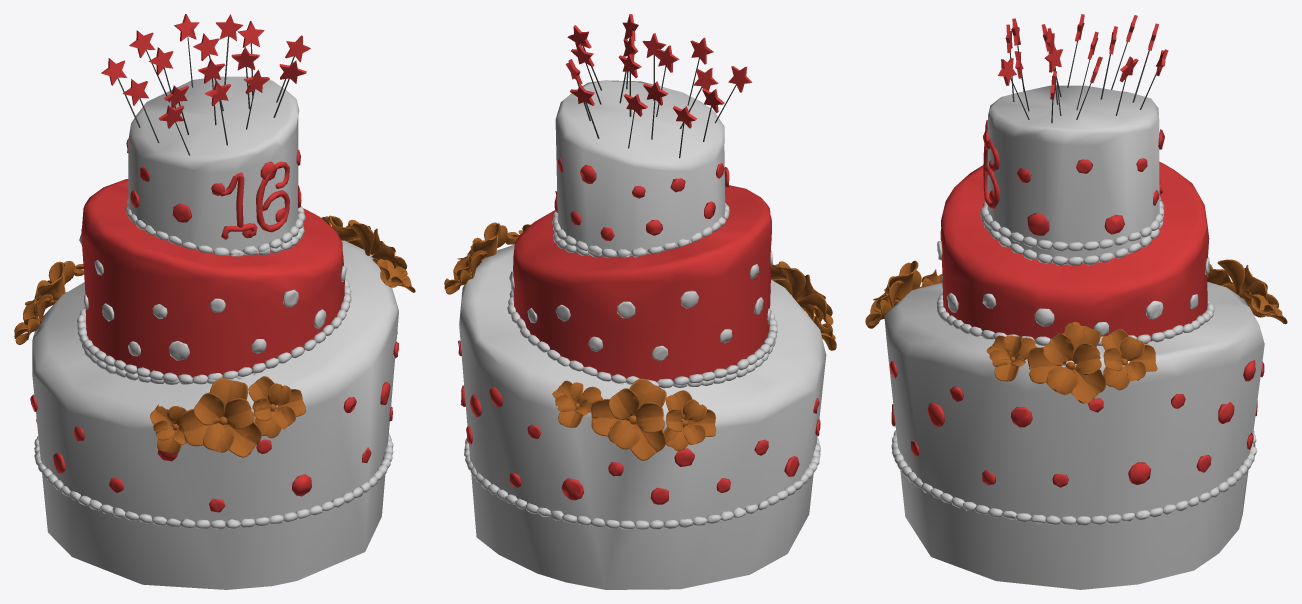
The model's file is 16 Years Cake.fbx.
The picture shows the model from 3 angles, left to right: view 1: azimuth 30°, elevation 25°; view 2: azimuth 150°, elevation 25°; view 3: azimuth 270°, elevation 25°; orthographic projection. The views are drawn at different scales.
Parts seen in each view (by area): view 1: CAKE_BOTTOM, CAKE_MIDDLE, CAKE_TOP, FLOWERS_2Z, FLOWERS_3Z, BORDER_LEANED_MIDDLE, FLOWERS_1, BORDER_STRAIGHT_MIDDLE, BORDER_LEANED_TOP, BORDER_STRAIGHT_TOP, DOTS_TOP_ADD; view 2: CAKE_BOTTOM, CAKE_MIDDLE, CAKE_TOP, FLOWERS_1, FLOWERS_2Z, BORDER_LEANED_MIDDLE, FLOWERS_3Z, BORDER_STRAIGHT_MIDDLE, BORDER_LEANED_TOP, BORDER_STRAIGHT_TOP; view 3: CAKE_BOTTOM, CAKE_TOP, CAKE_MIDDLE, FLOWERS_3Z, FLOWERS_1, BORDER_STRAIGHT_TOP, FLOWERS_2Z, BORDER_LEANED_MIDDLE, BORDER_LEANED_TOP.
Part boxes in pixels (<box>): CAKE_BOTTOM: <box>30,240,398,589</box>; CAKE_MIDDLE: <box>79,179,346,382</box>; CAKE_TOP: <box>101,14,310,254</box>; FLOWERS_2Z: <box>150,376,305,457</box>; FLOWERS_3Z: <box>321,215,415,292</box>; BORDER_LEANED_MIDDLE: <box>79,279,351,384</box>; FLOWERS_1: <box>14,261,83,344</box>; BORDER_STRAIGHT_MIDDLE: <box>77,307,257,384</box>; BORDER_LEANED_TOP: <box>125,199,304,255</box>; BORDER_STRAIGHT_TOP: <box>227,206,305,256</box>; DOTS_TOP_ADD: <box>211,161,285,238</box>; CAKE_BOTTOM: <box>458,245,826,589</box>; CAKE_MIDDLE: <box>509,185,772,381</box>; CAKE_TOP: <box>554,14,752,256</box>; FLOWERS_1: <box>552,378,716,460</box>; FLOWERS_2Z: <box>771,261,836,350</box>; BORDER_LEANED_MIDDLE: <box>507,288,775,388</box>; FLOWERS_3Z: <box>444,222,530,294</box>; BORDER_STRAIGHT_MIDDLE: <box>614,308,777,387</box>; BORDER_LEANED_TOP: <box>553,203,729,257</box>; BORDER_STRAIGHT_TOP: <box>552,211,638,257</box>; CAKE_BOTTOM: <box>884,282,1264,589</box>; CAKE_TOP: <box>983,14,1168,264</box>; CAKE_MIDDLE: <box>937,161,1209,343</box>; FLOWERS_3Z: <box>986,321,1157,403</box>; FLOWERS_1: <box>1207,259,1287,324</box>; BORDER_STRAIGHT_TOP: <box>980,200,1164,251</box>; FLOWERS_2Z: <box>865,260,942,328</box>; BORDER_LEANED_MIDDLE: <box>936,293,1214,345</box>; BORDER_LEANED_TOP: <box>980,195,1164,265</box>.
Size of what is drawn, in the model's own units: 487 by 646 by 509.
